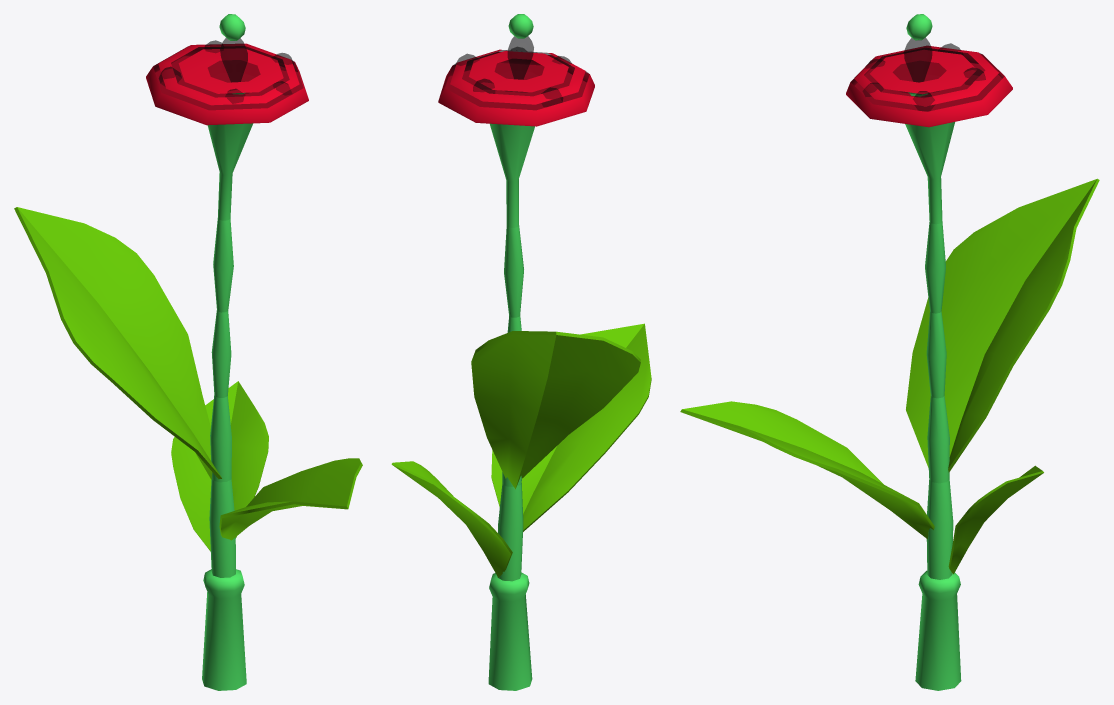
File: alien_plant.fbx
3 renders of one model, left to right at view 1: azimuth 30°, elevation 25°; view 2: azimuth 150°, elevation 25°; view 3: azimuth 270°, elevation 25°, orthographic.
Parts seen in each view (by area): view 1: plant_space; view 2: plant_space; view 3: plant_space.
Part boxes in pixels (<box>): plant_space: <box>14,14,362,690</box>; plant_space: <box>391,14,651,690</box>; plant_space: <box>680,14,1099,690</box>.
Bounding box in the file's own units: 38.67 × 116 × 66.36.
